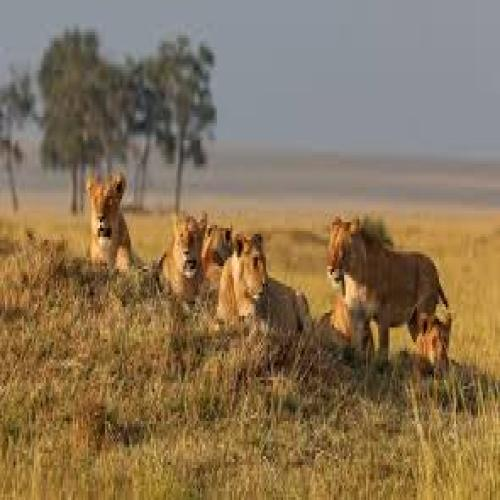lion-endangered: (321, 212, 454, 363), (218, 230, 319, 344), (314, 290, 388, 380), (403, 314, 481, 390), (82, 174, 140, 276), (154, 211, 207, 300), (203, 219, 242, 299)
